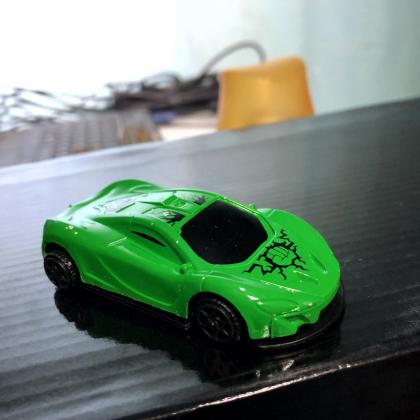Car: (36, 170, 350, 358)
